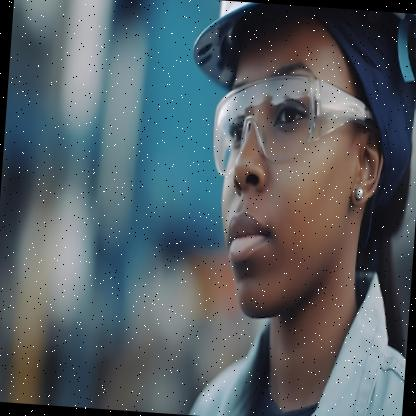oculos: (211, 69, 335, 185)
